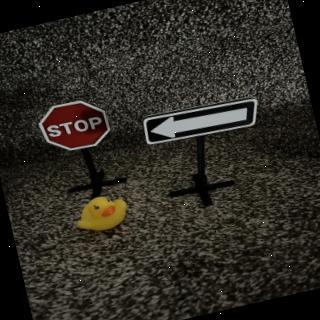duck_regular: (72, 189, 132, 237)
sign_oneway_left: (141, 92, 265, 154)
sign_stop: (36, 96, 116, 162)
